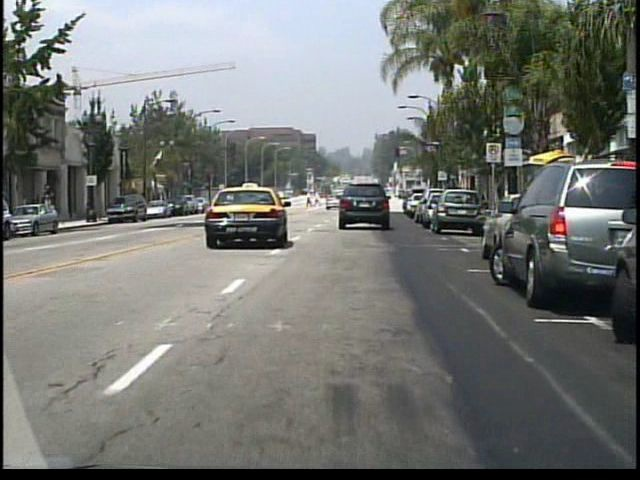person: (44, 194, 55, 225), (314, 190, 323, 210), (304, 192, 313, 210)
